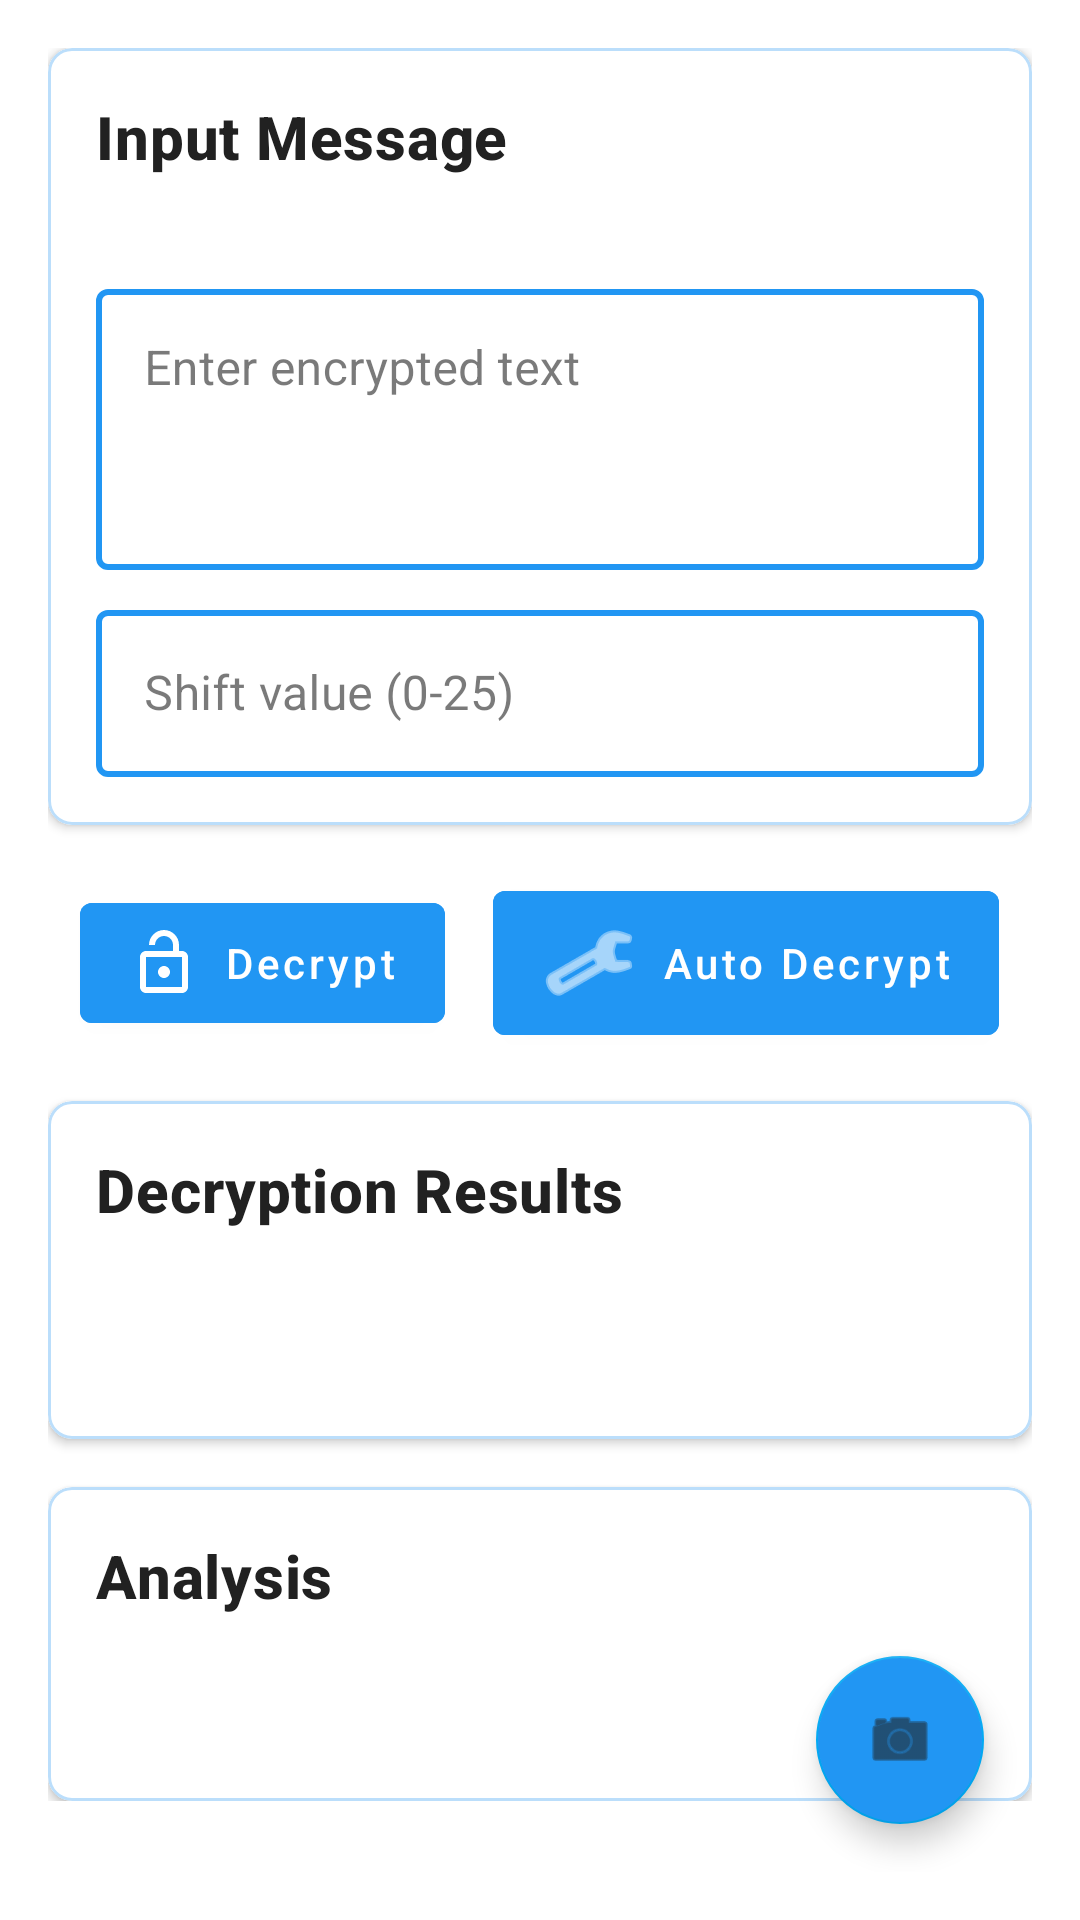

Screen size 1080×1920. Icon name, then its center in pixels as (x,y):
Scan Text: (900,1740)
